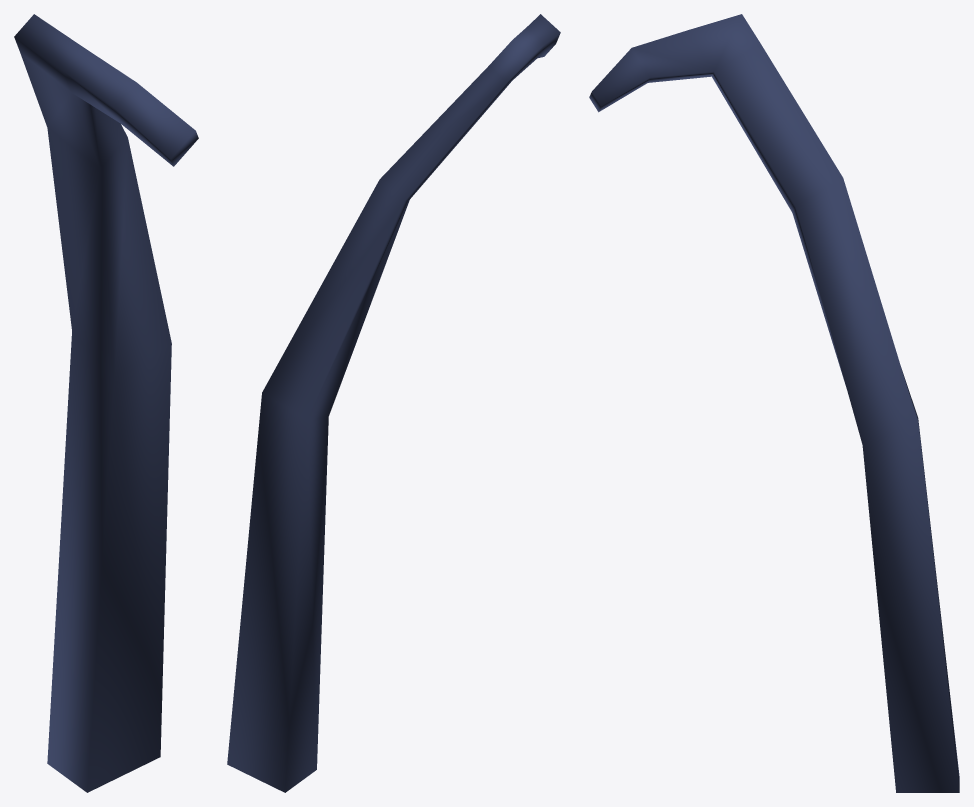
File: PosteQuebrado.fbx
The picture shows the model from 3 angles, left to right: view 1: azimuth 30°, elevation 25°; view 2: azimuth 150°, elevation 25°; view 3: azimuth 270°, elevation 25°; orthographic projection. The views are drawn at different scales.
Visible parts, largest first — view 1: PosteLamparina; view 2: PosteLamparina; view 3: PosteLamparina.
Part boxes in pixels (left/top/right/bottom): PosteLamparina: left=14, top=14, right=198, bottom=792; PosteLamparina: left=227, top=14, right=560, bottom=792; PosteLamparina: left=589, top=14, right=959, bottom=792.
Bounding box in the file's own units: 89.17 × 309 × 147.
